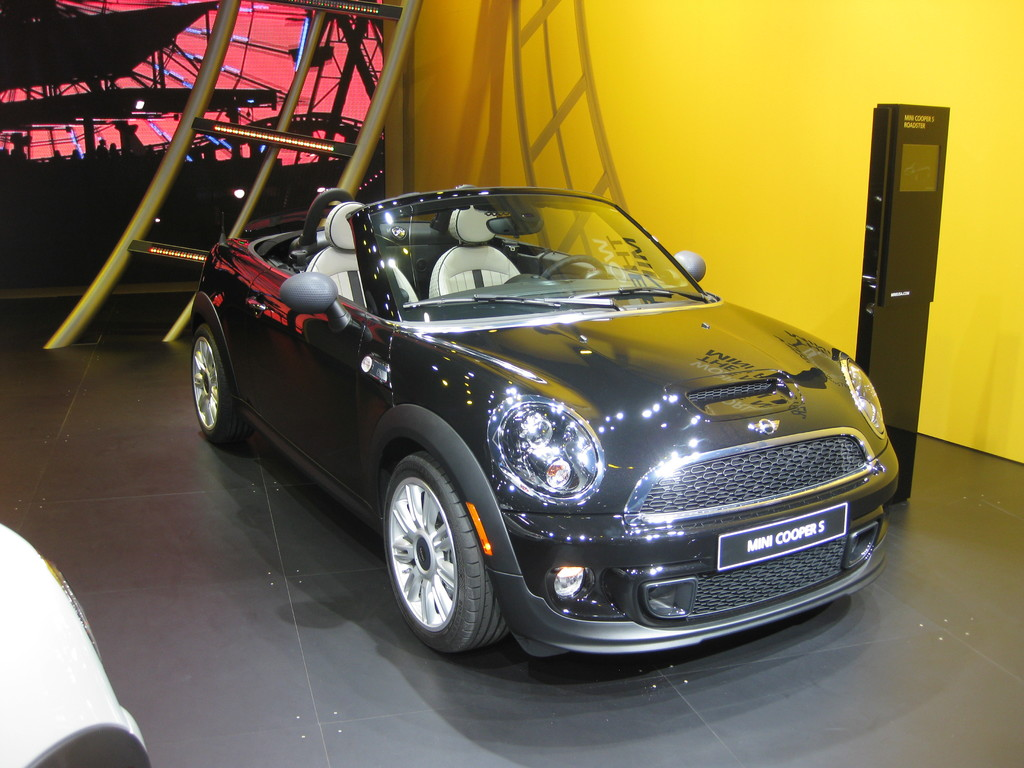Car: (187, 181, 904, 658)
